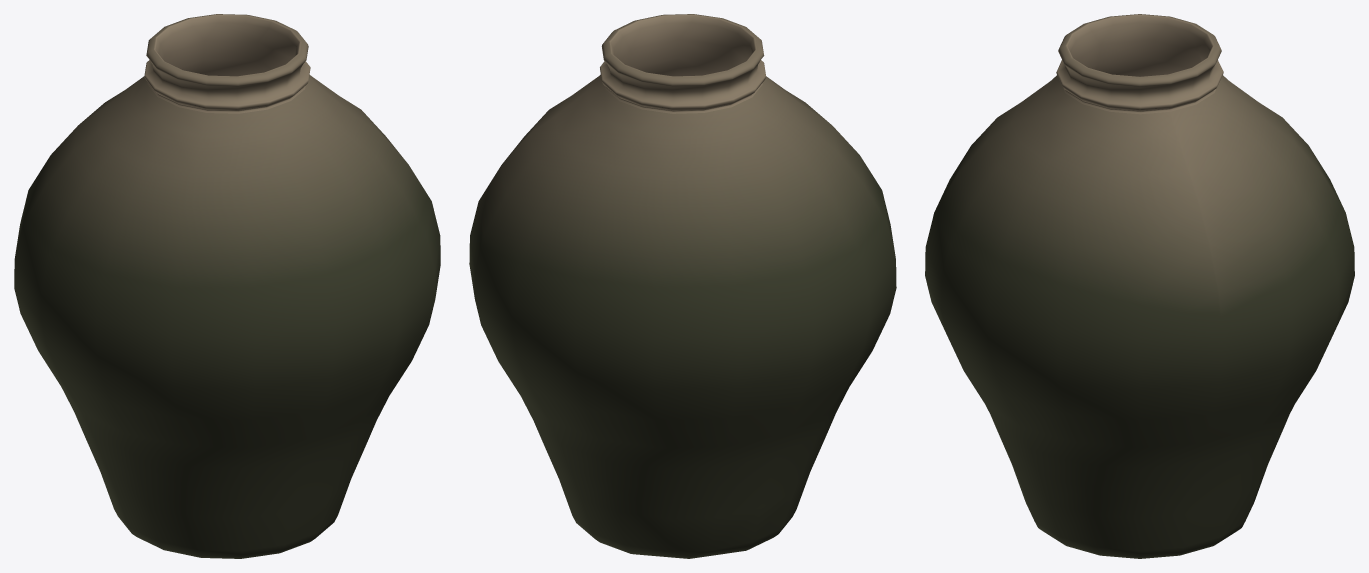
Rendered from SM_Mado_PotteryB.fbx.
3 renders of one model, left to right at view 1: azimuth 30°, elevation 25°; view 2: azimuth 150°, elevation 25°; view 3: azimuth 270°, elevation 25°, orthographic.
Parts seen in each view (by area): view 1: SM_Mado_PotteryB; view 2: SM_Mado_PotteryB; view 3: SM_Mado_PotteryB.
Part boxes in pixels (left/top/right/bottom): SM_Mado_PotteryB: left=14, top=14, right=440, bottom=558; SM_Mado_PotteryB: left=469, top=14, right=896, bottom=558; SM_Mado_PotteryB: left=925, top=14, right=1354, bottom=558.
Bounding box in the file's own units: 29.58 × 29.58 × 35.91.
Materials: 1 (1 with a texture image).
